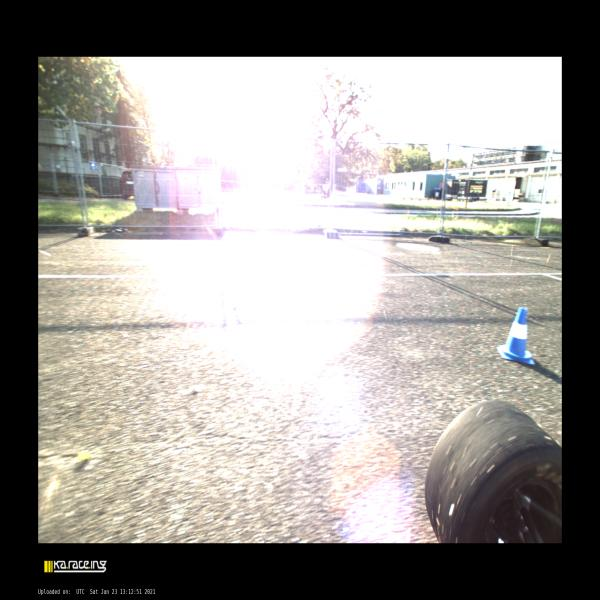blue_cone: (496, 305, 536, 366)
